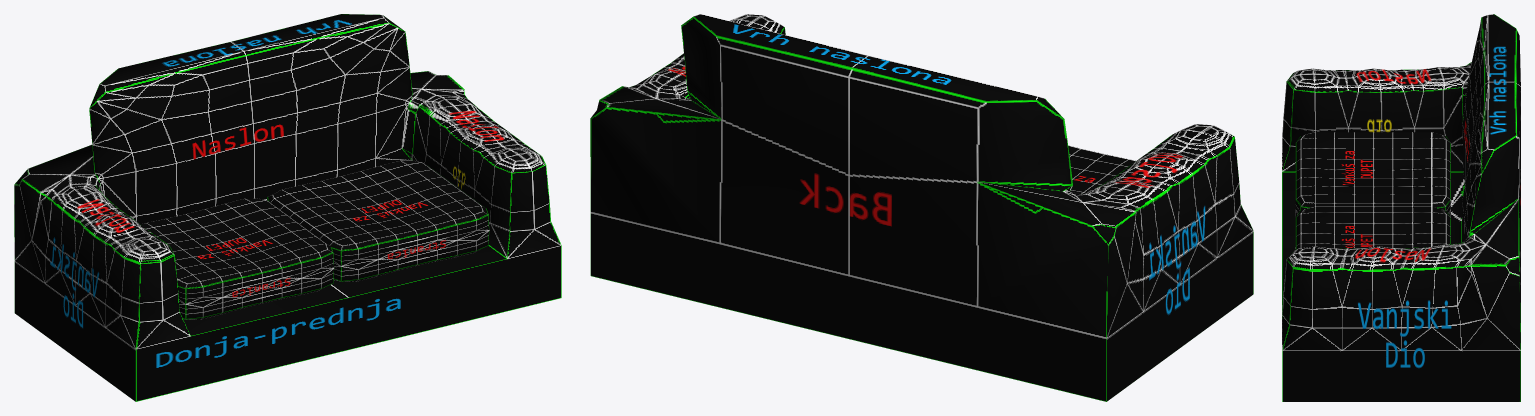
The model's file is couch2.FBX.
The picture shows the model from 3 angles, left to right: view 1: azimuth 30°, elevation 25°; view 2: azimuth 150°, elevation 25°; view 3: azimuth 270°, elevation 25°; orthographic projection. The views are drawn at different scales.
Parts seen in each view (by area): view 1: Box001; view 2: Box001; view 3: Box001.
Boxes of the visible parts, x1,y1,x2,y2 form: Box001: [14, 14, 561, 401]; Box001: [590, 14, 1253, 401]; Box001: [1282, 14, 1520, 401].
Size of the model in its own units: 133 by 65.29 by 65.73.
Materials: 1 (1 with a texture image).
